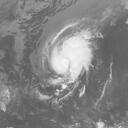cyclone: (45, 28, 96, 83)
